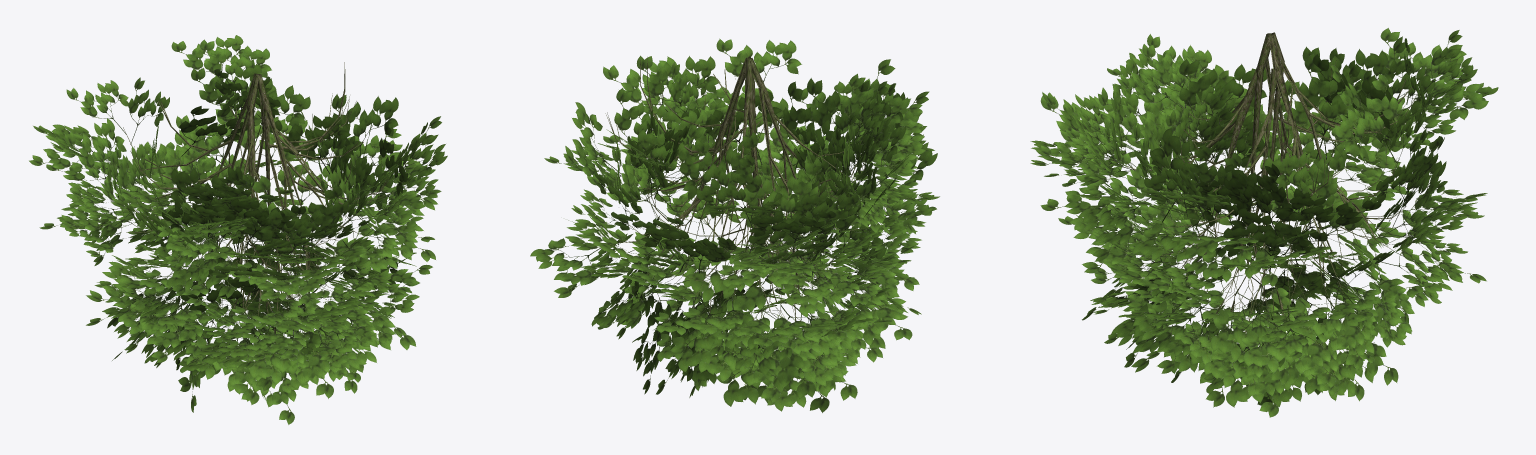
3 renders of one model, left to right at view 1: azimuth 30°, elevation 25°; view 2: azimuth 150°, elevation 25°; view 3: azimuth 270°, elevation 25°, orthographic. The views are drawn at different scales.
Parts seen in each view (by area): view 1: leaves, tree; view 2: leaves, tree; view 3: leaves, tree.
Part boxes in pixels (x1,y1,x2,y2): leaves: [29, 35, 447, 424]; tree: [106, 62, 390, 343]; leaves: [530, 38, 939, 412]; tree: [605, 56, 866, 325]; leaves: [1030, 28, 1498, 417]; tree: [1111, 32, 1419, 332].
Size of the model in its own units: 1.64 by 1.44 by 1.78.
2 materials, 2 textured.
